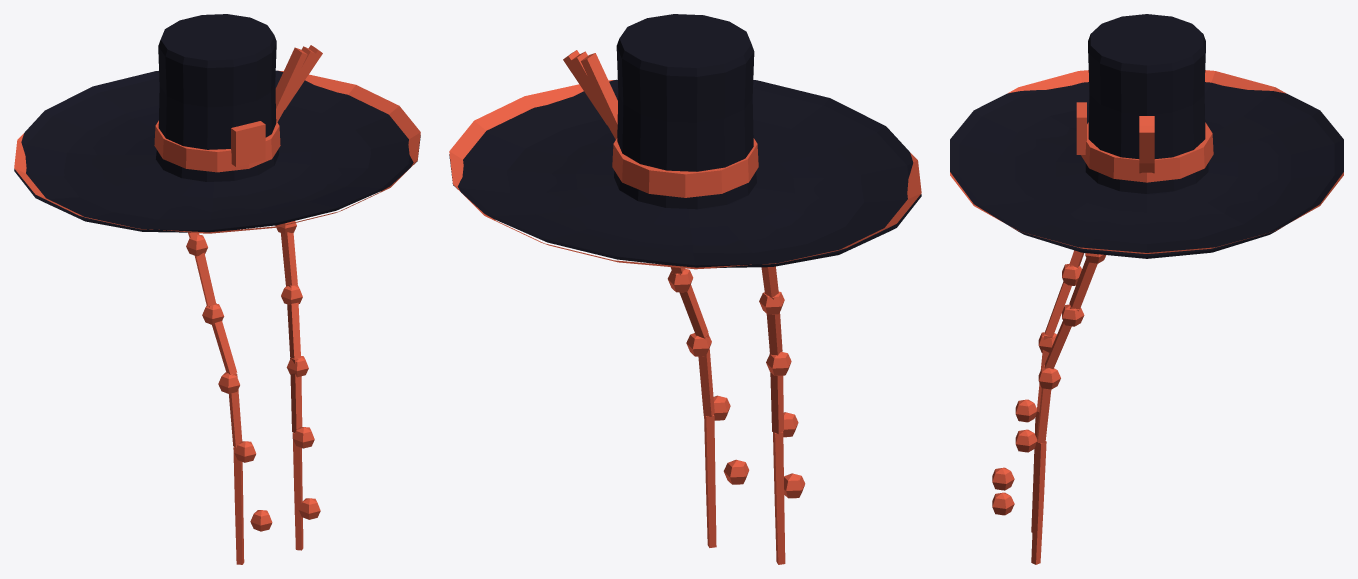
The model's file is gear_gat_t4.glb.
3 views of the same model, side by side, from view 1: azimuth 30°, elevation 25°; view 2: azimuth 150°, elevation 25°; view 3: azimuth 270°, elevation 25° (orthographic). The views are drawn at different scales.
Visible parts, largest first — view 1: gear_gat_t4; view 2: gear_gat_t4; view 3: gear_gat_t4.
Part boxes in pixels (left/top/right/bottom): gear_gat_t4: left=14, top=14, right=420, bottom=564; gear_gat_t4: left=449, top=14, right=921, bottom=564; gear_gat_t4: left=950, top=14, right=1343, bottom=564.
Bounding box in the file's own units: 0.86 × 1.09 × 0.7622.
